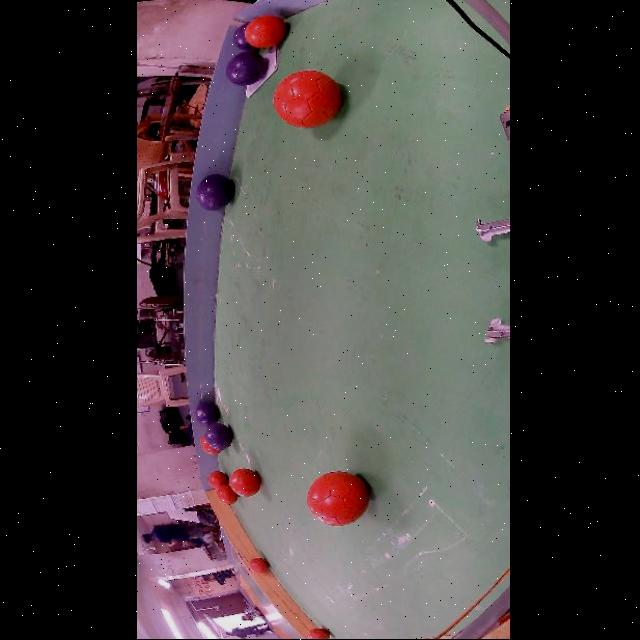P: (223, 52, 266, 86), (195, 174, 232, 212), (203, 423, 231, 452), (231, 23, 256, 52), (194, 404, 218, 427)
R: (271, 70, 339, 129), (305, 473, 368, 527), (243, 16, 284, 48), (227, 469, 260, 497), (199, 435, 219, 456), (214, 486, 236, 505), (206, 471, 227, 490), (247, 558, 268, 575), (306, 630, 329, 640)
